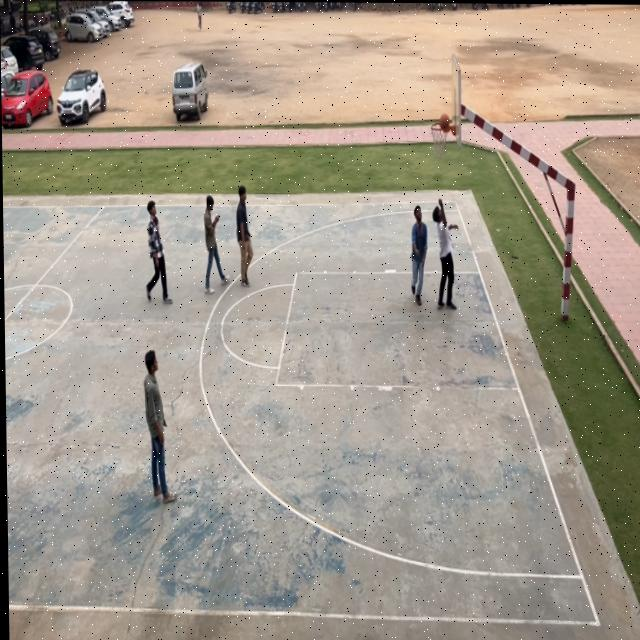basketball: (439, 112, 450, 131)
hoop: (431, 118, 449, 157)
